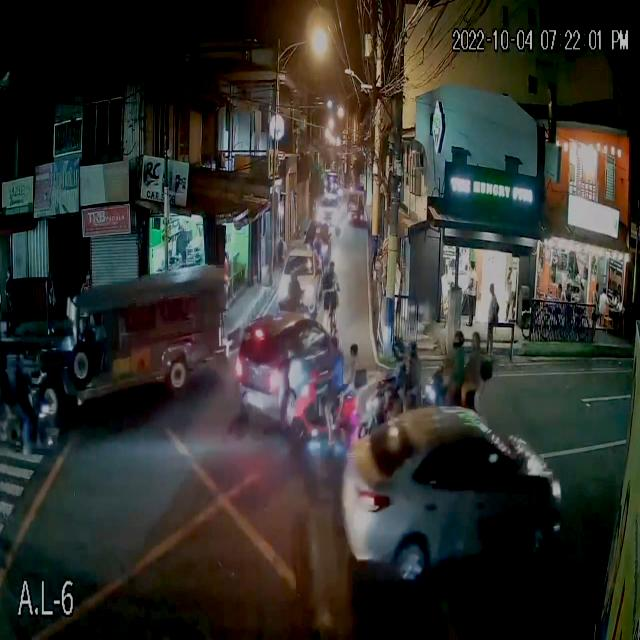Full-Faced: (390, 333, 406, 362), (404, 334, 420, 362), (453, 324, 464, 354), (290, 268, 303, 288)
Not-Wearing-Helmet: (328, 334, 343, 364), (468, 328, 478, 351)
